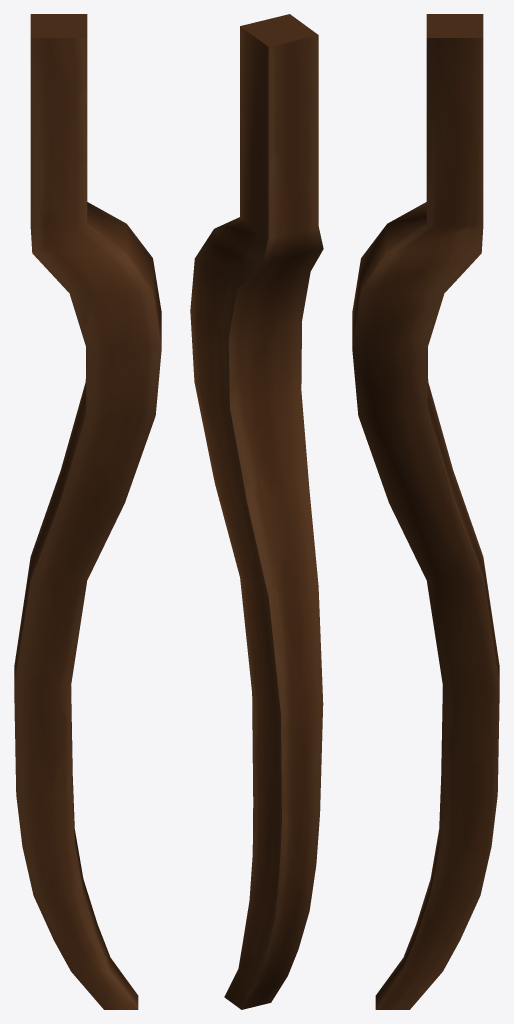
File: Fancyleg_Long2.fbx
The picture shows the model from 3 angles, left to right: view 1: azimuth 90°, elevation 25°; view 2: azimuth 210°, elevation 25°; view 3: azimuth 270°, elevation 25°; orthographic projection.
Visible parts, largest first — view 1: FancyLeg_TableBasic; view 2: FancyLeg_TableBasic; view 3: FancyLeg_TableBasic.
Boxes of the visible parts, x1,y1,x2,y2 form: FancyLeg_TableBasic: [14, 14, 161, 1009]; FancyLeg_TableBasic: [190, 14, 323, 1009]; FancyLeg_TableBasic: [352, 14, 499, 1009].
Size of the model in its own units: 5.03 by 64.86 by 8.88.
